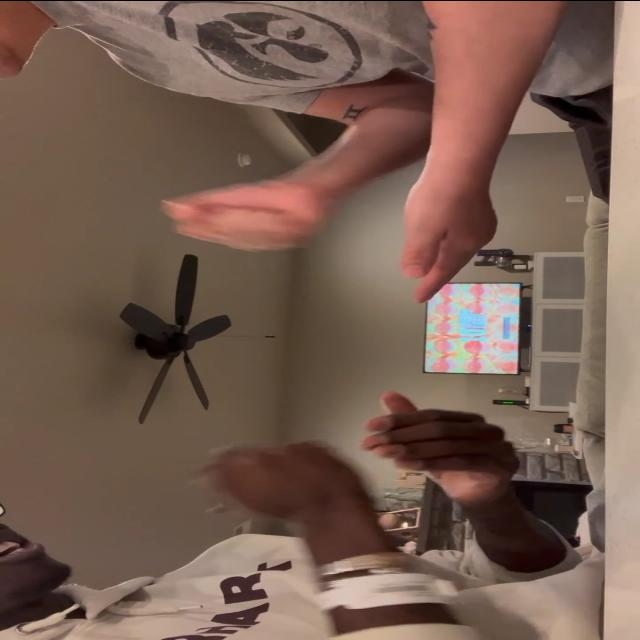Rock: (203, 438, 377, 520), (162, 177, 328, 251)
